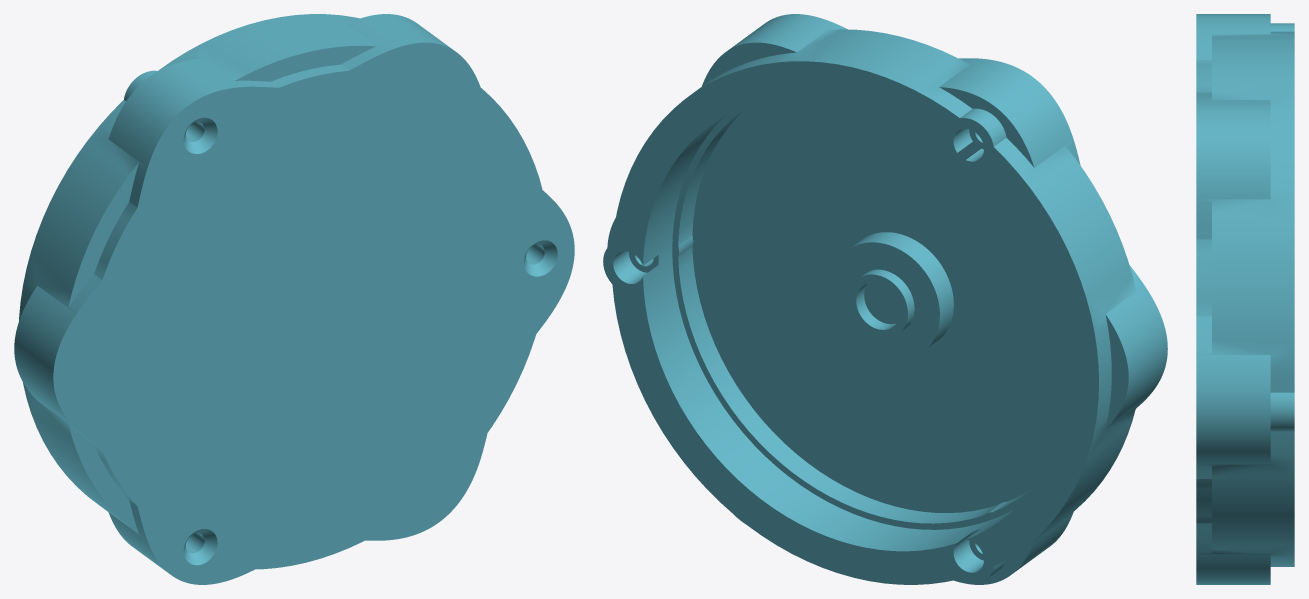
The model's file is Cap_petal_flower.glb.
3 renders of one model, left to right at view 1: azimuth 30°, elevation 25°; view 2: azimuth 150°, elevation 25°; view 3: azimuth 270°, elevation 25°, orthographic. The views are drawn at different scales.
Visible parts, largest first — view 1: Cap_petal_flower_0; view 2: Cap_petal_flower_0; view 3: Cap_petal_flower_0.
Part boxes in pixels (left/top/right/bottom): Cap_petal_flower_0: left=14, top=14, right=574, bottom=584; Cap_petal_flower_0: left=603, top=14, right=1167, bottom=584; Cap_petal_flower_0: left=1196, top=14, right=1294, bottom=584.
Bounding box in the file's own units: 61.6 × 57.6 × 10.6.
